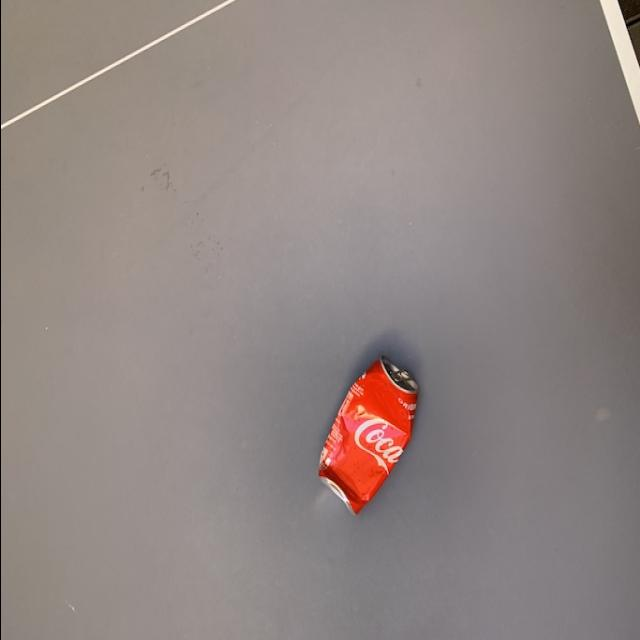Aluminum Can: (307, 348, 423, 516)
